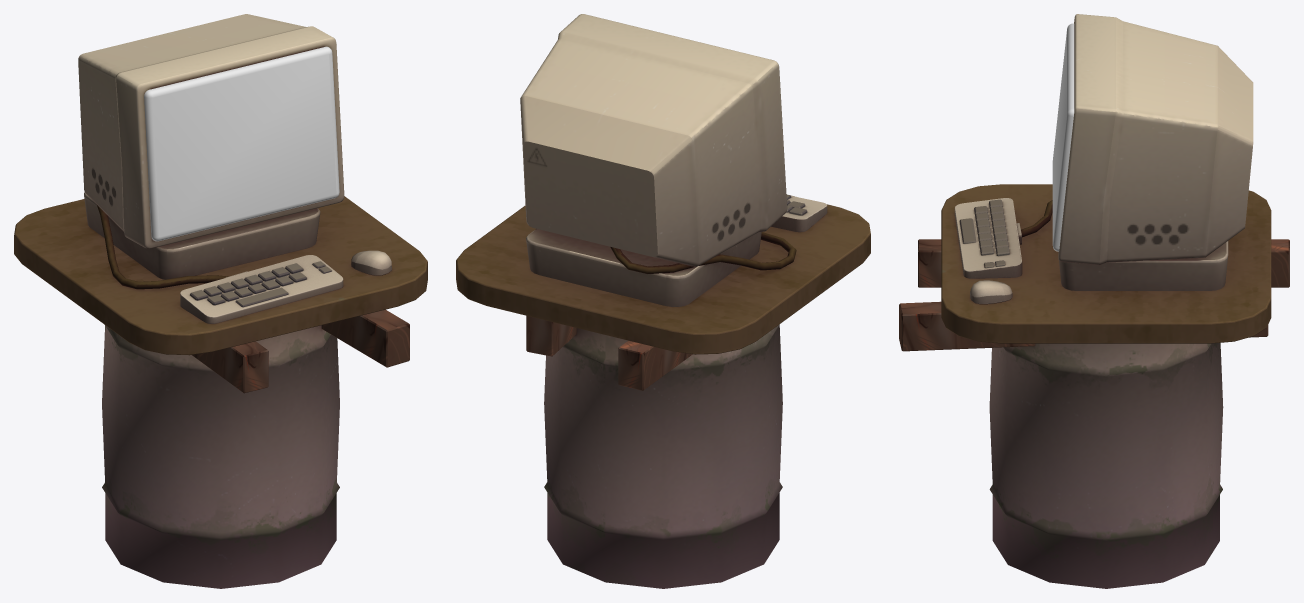
3 renders of one model, left to right at view 1: azimuth 30°, elevation 25°; view 2: azimuth 150°, elevation 25°; view 3: azimuth 270°, elevation 25°, orthographic. The views are drawn at different scales.
Parts seen in each view (by area): view 1: Cylinder.038, Cylinder.001; view 2: Cylinder.038; view 3: Cylinder.038, Cylinder.001.
Part boxes in pixels (left/top/right/bottom): Cylinder.038: left=14, top=14, right=427, bottom=588; Cylinder.001: left=144, top=46, right=339, bottom=241; Cylinder.038: left=456, top=14, right=870, bottom=588; Cylinder.038: left=899, top=14, right=1289, bottom=588; Cylinder.001: left=1052, top=23, right=1074, bottom=251.
Bounding box in the file's own units: 1.16 × 1.87 × 1.38.
2 materials, 2 textured.
